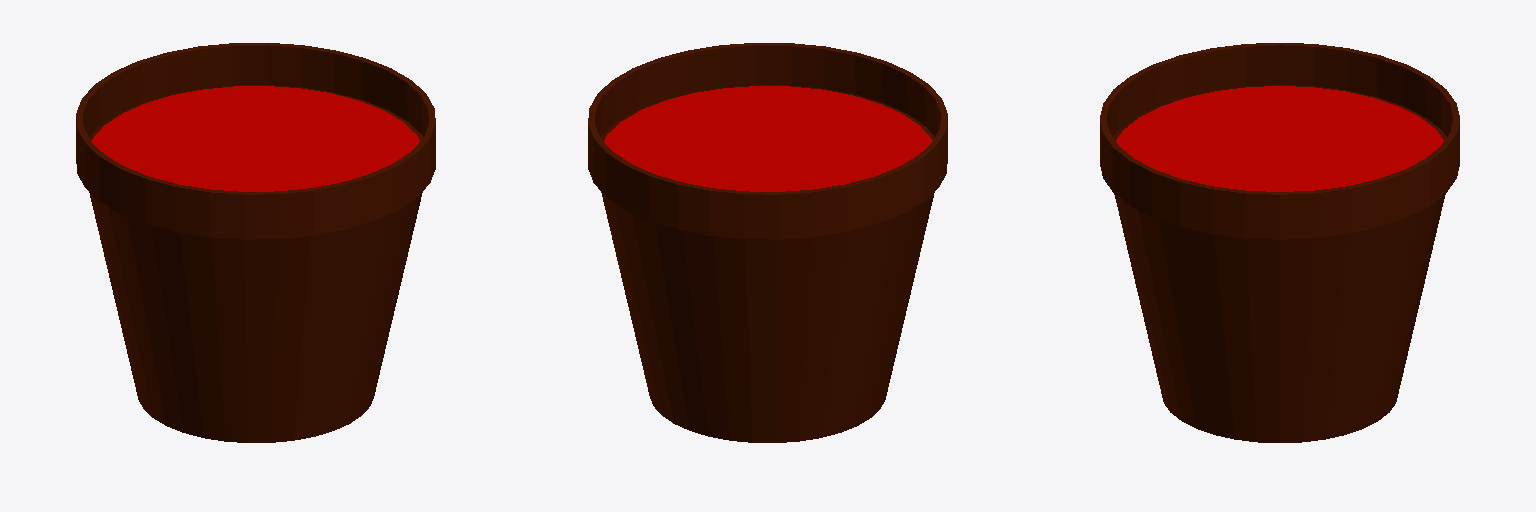
File: Pot.obj
The picture shows the model from 3 angles: view 1: azimuth 30°, elevation 25°; view 2: azimuth 150°, elevation 25°; view 3: azimuth 270°, elevation 25°; orthographic projection.
Parts seen in each view (by area): view 1: Cylinder; view 2: Cylinder; view 3: Cylinder.
Part boxes in pixels (left/top/right/bottom): Cylinder: left=76, top=43, right=435, bottom=442; Cylinder: left=588, top=43, right=947, bottom=442; Cylinder: left=1100, top=43, right=1459, bottom=442.
Size of the model in its own units: 0.2835 by 0.2382 by 0.2835.